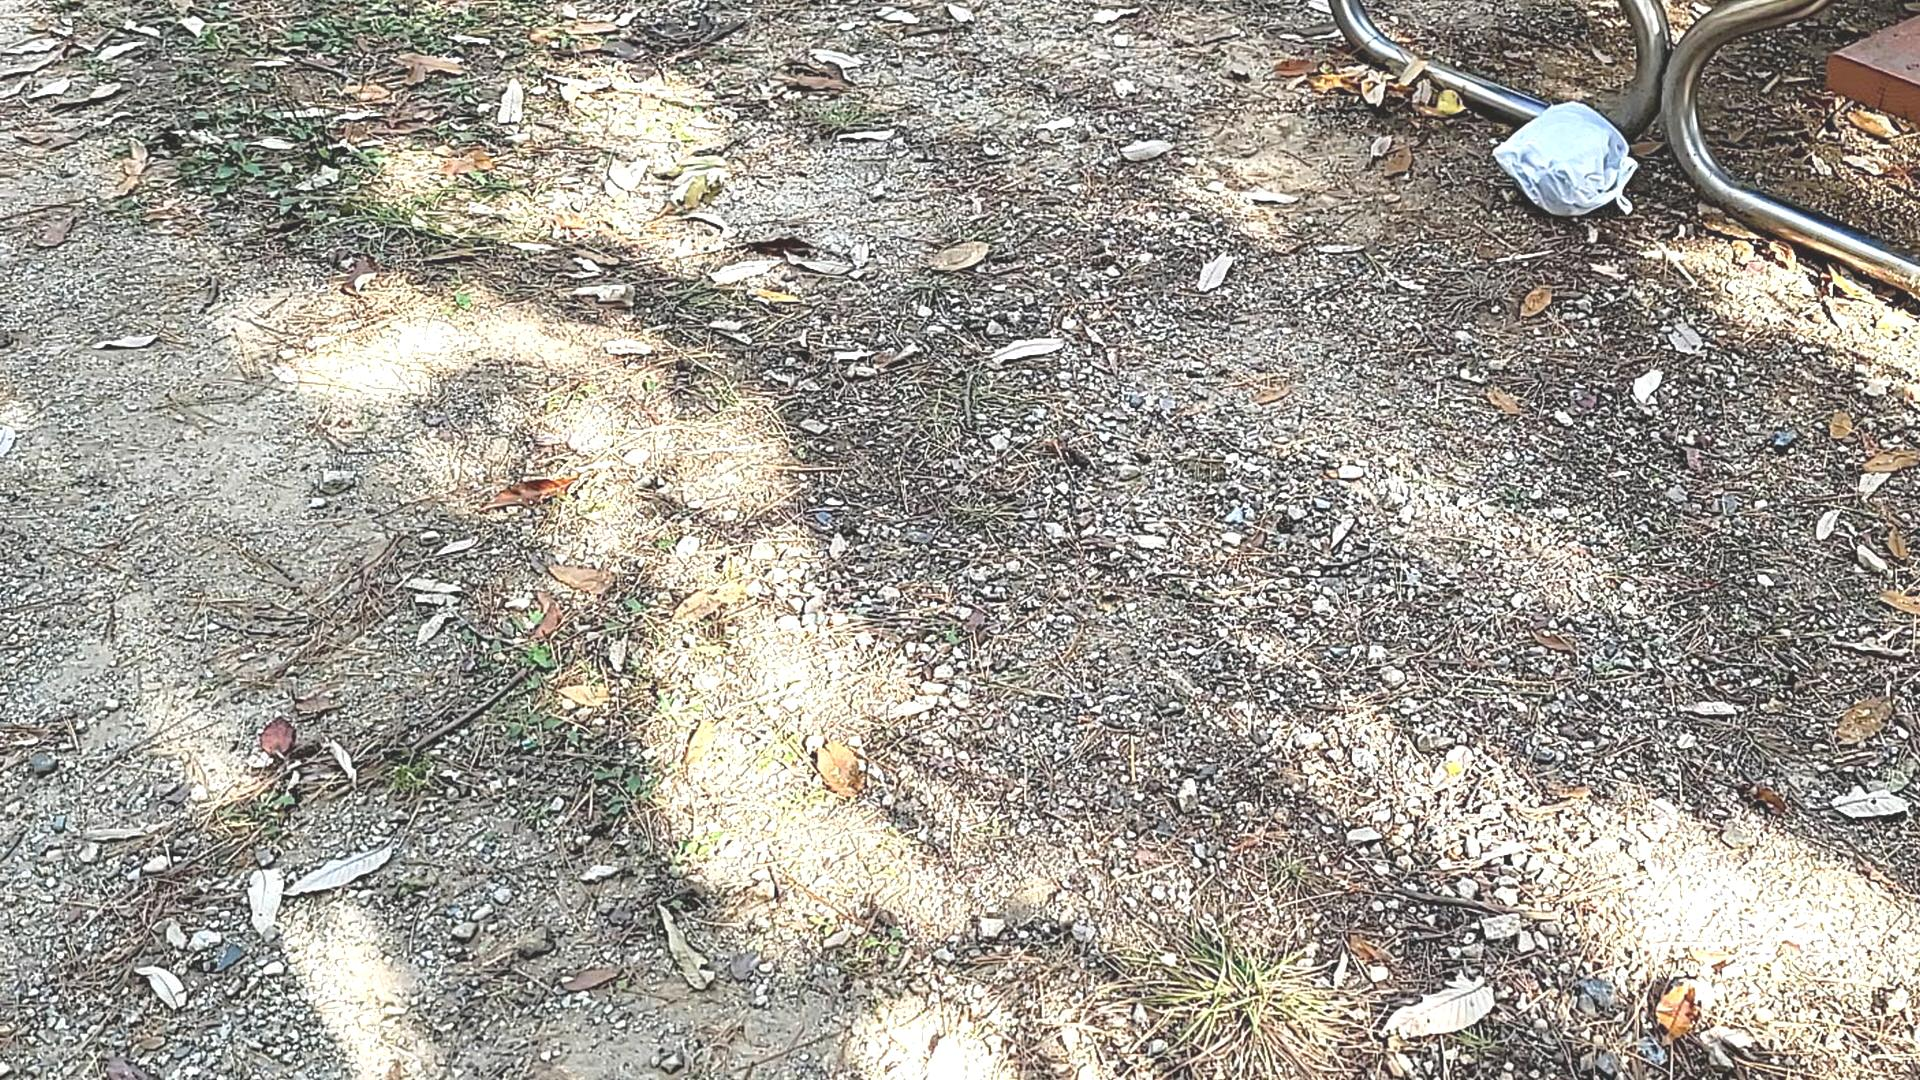white_bag: (1480, 94, 1647, 224)
